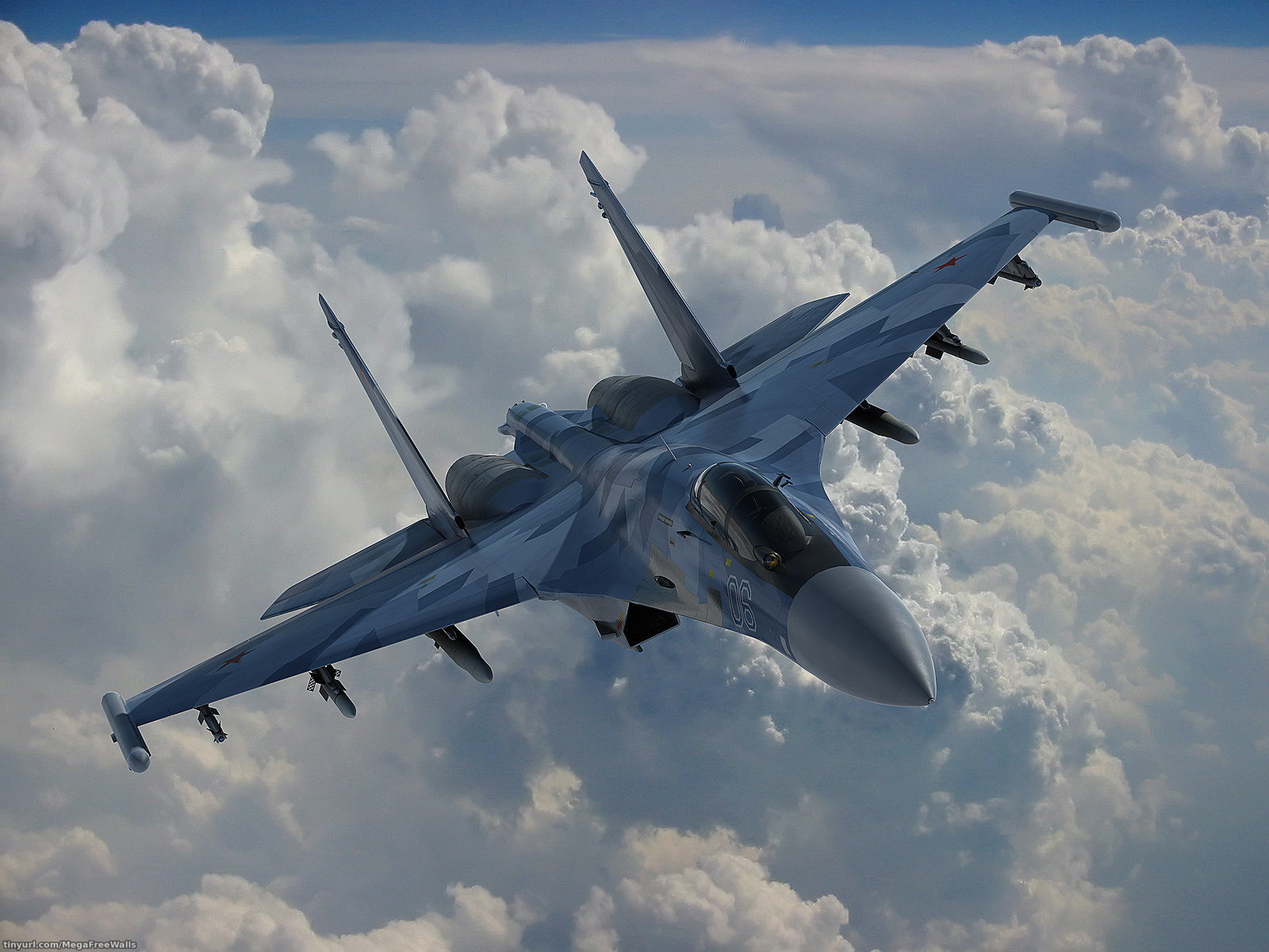Su35: (90, 140, 1125, 778)
